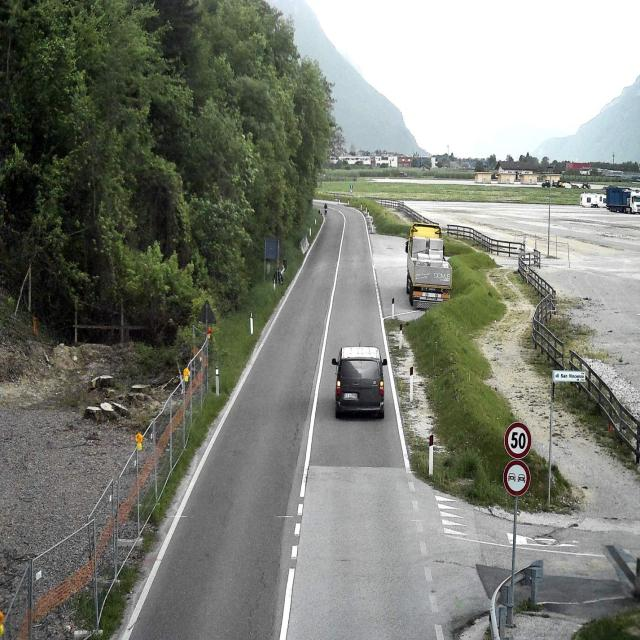car: (332, 344, 387, 418)
truck: (404, 222, 453, 308), (605, 184, 640, 214)
